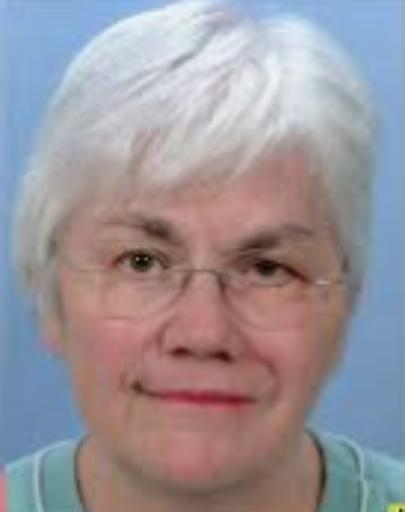left_eye: (238, 260, 304, 292)
left_lip_corner: (241, 387, 271, 411)
right_eye: (110, 249, 174, 280)
right_lip_corner: (125, 380, 161, 404)
